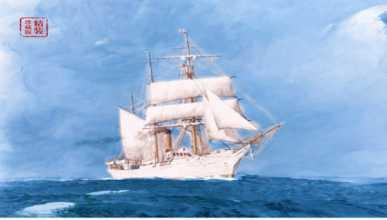fanchuan: (108, 31, 270, 183)
